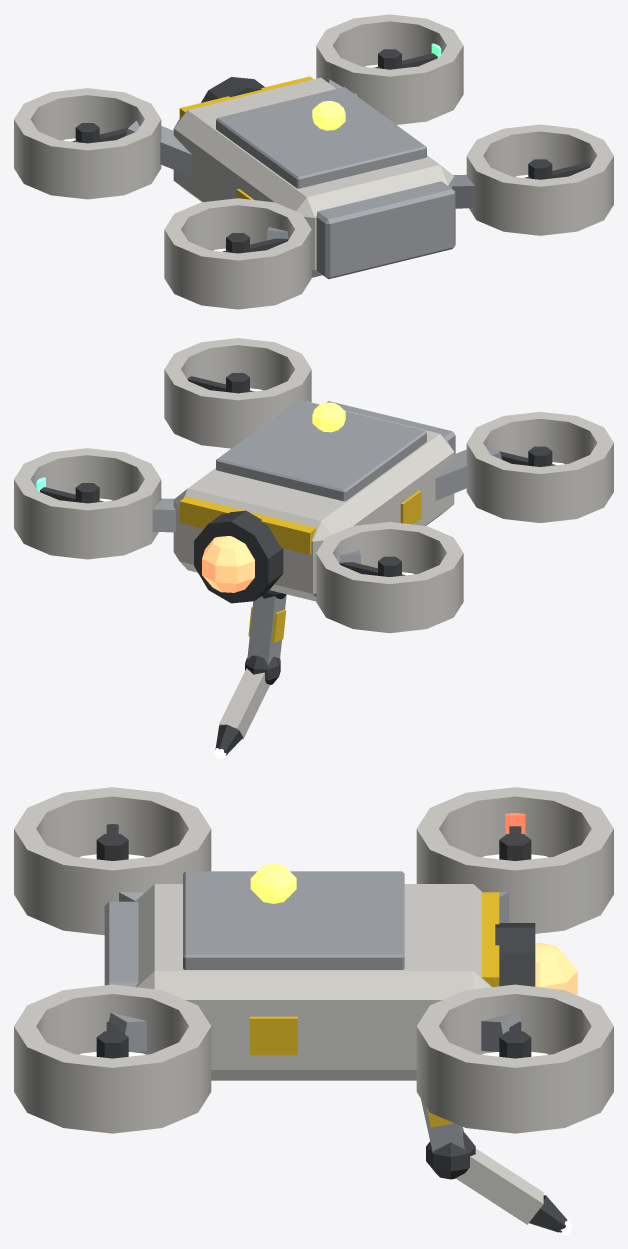
File: construction_drone.glb
3 renders of one model, top to bottom at view 1: azimuth 30°, elevation 25°; view 2: azimuth 150°, elevation 25°; view 3: azimuth 270°, elevation 25°, orthographic. The views are drawn at different scales.
Visible parts, largest first — view 1: drone_body, drone_light; view 2: drone_body, drone_arm, drone_light; view 3: drone_body, drone_arm, drone_light.
Boxes of the visible parts, x1,y1,x2,y2 form: drone_body: (14, 14, 613, 309); drone_light: (312, 101, 345, 130); drone_body: (14, 338, 613, 633); drone_arm: (214, 590, 286, 758); drone_light: (312, 402, 345, 432); drone_body: (14, 787, 613, 1133); drone_arm: (421, 1099, 572, 1234); drone_light: (250, 863, 296, 903).
Bounding box in the file's own units: 1.65 × 1.01 × 1.49.
